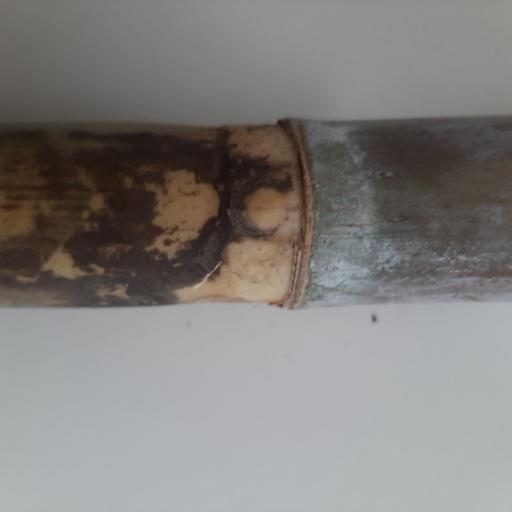Bud: (242, 185, 294, 232)
